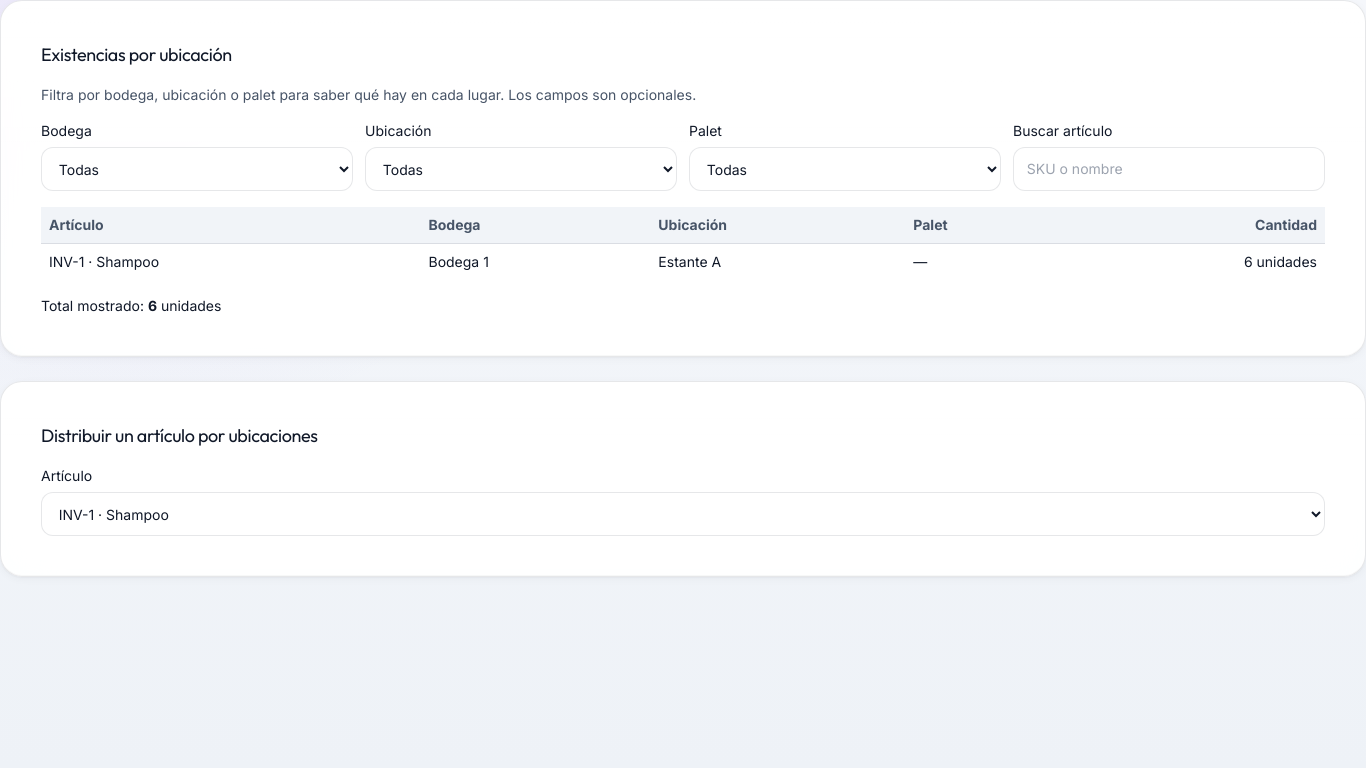
it: opening an item shows total, assigned and the unassigned remainder
This screenshot has width=1366, height=768.
Select "INV-1 · Shampoo" in the dropdown with test id "location-item-select" at (683, 514), box [41,492,1325,536]
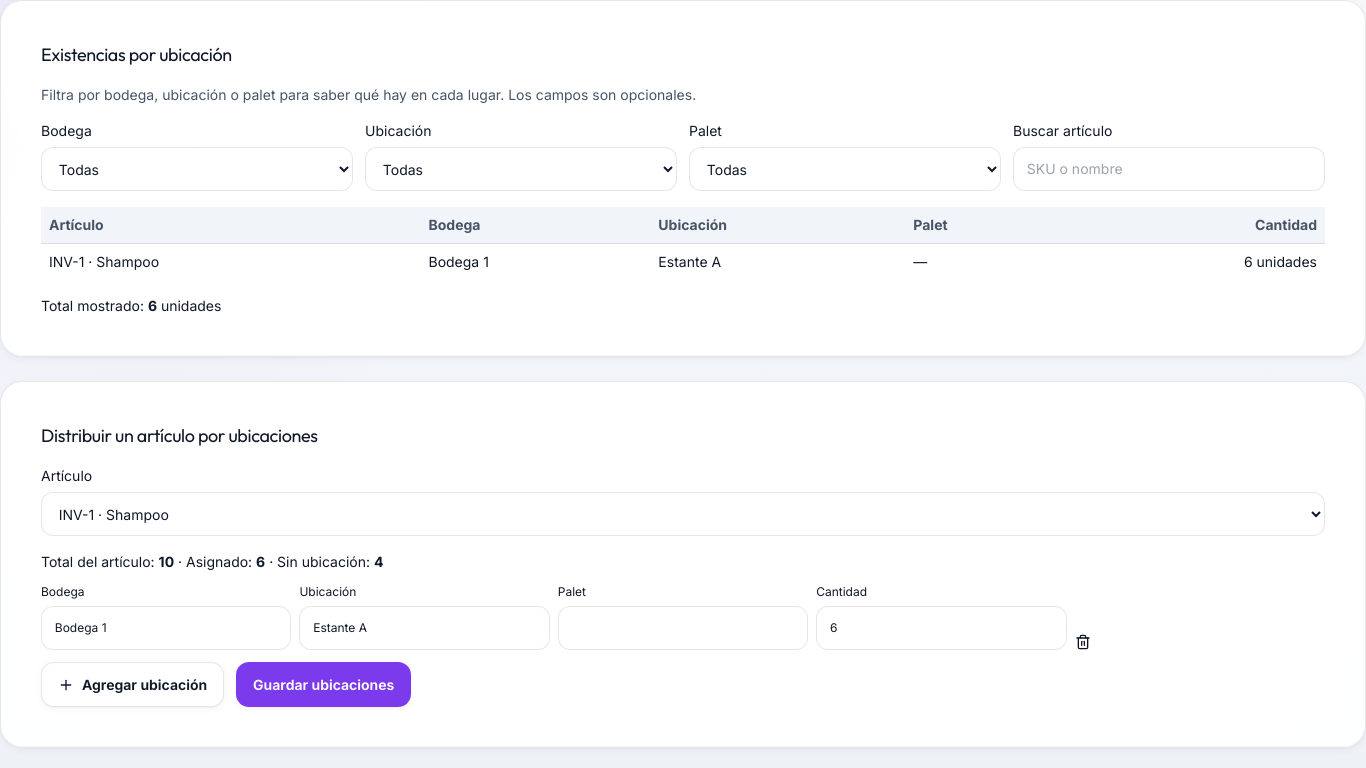
Expected: the number of elements with test id "location-row" is 1, [41,584,1325,650]
Expected: the text with test id "unassigned-quantity" reads "4", [374,553,384,570]
